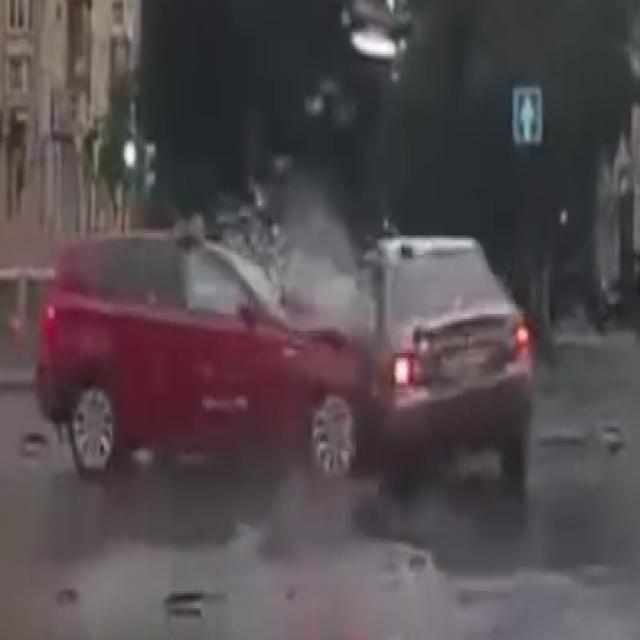accident: (146, 214, 533, 505)
